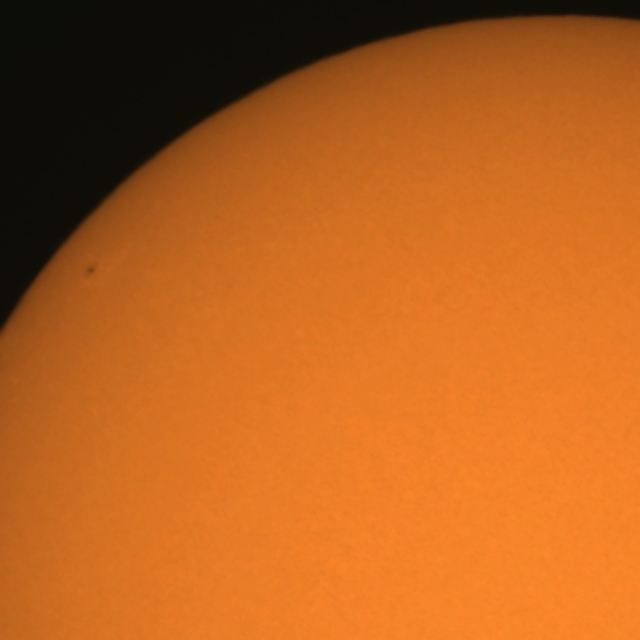sunspot: (82, 262, 98, 280)
